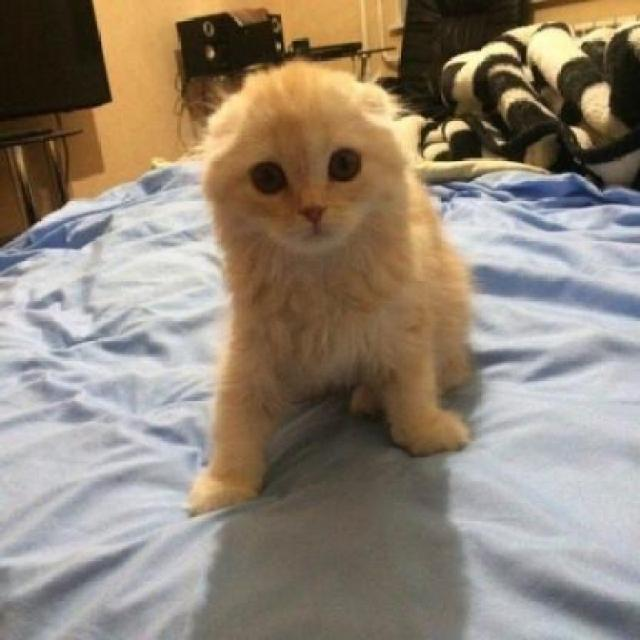cat: (167, 68, 478, 520)
